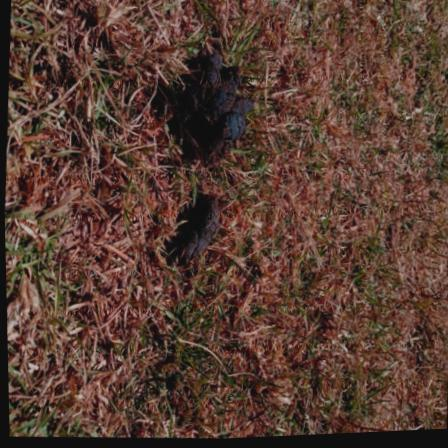dog-poop: (172, 51, 258, 170), (166, 190, 234, 272)
